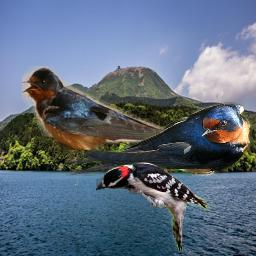Swallow: (22, 66, 206, 150), (66, 102, 252, 176)
Woodpecker: (96, 161, 211, 255)
